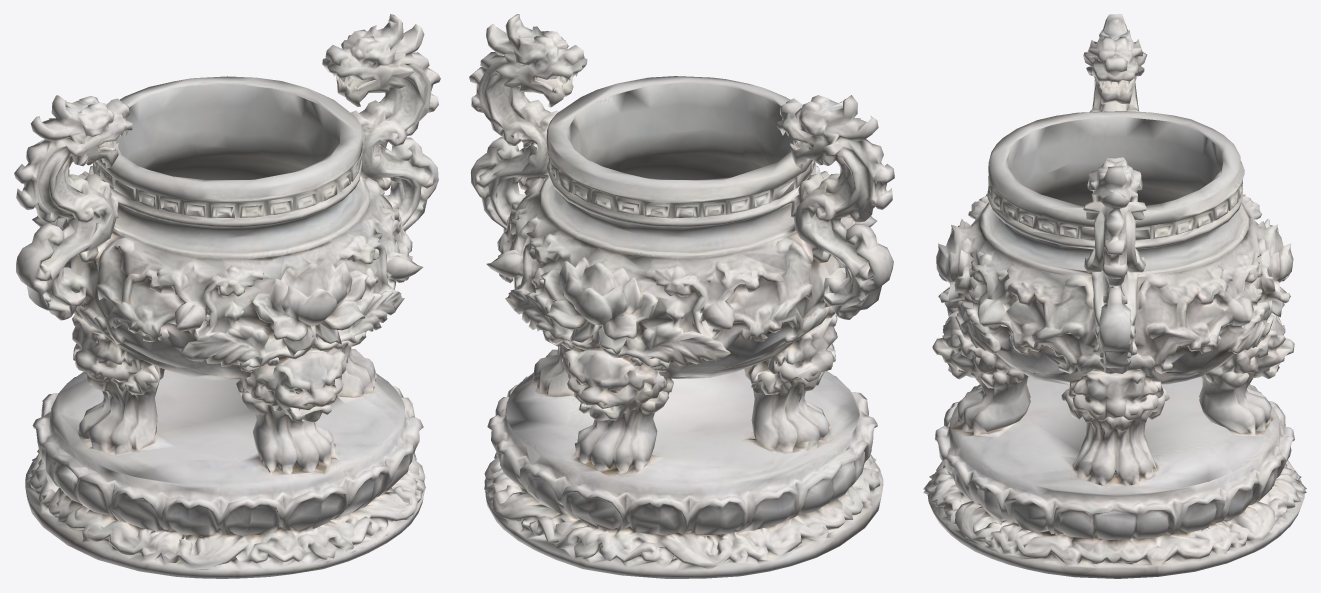
Rendered from low-welded.glb.
The picture shows the model from 3 angles, left to right: view 1: azimuth 30°, elevation 25°; view 2: azimuth 150°, elevation 25°; view 3: azimuth 270°, elevation 25°; orthographic projection. The views are drawn at different scales.
Parts seen in each view (by area): view 1: model; view 2: model; view 3: model.
Boxes of the visible parts, x1=… form: model: x1=14, y1=14, x2=440, y2=578; model: x1=469, y1=14, x2=894, y2=578; model: x1=923, y1=14, x2=1306, y2=578.
Size of the model in its own units: 1.59 by 1.6 by 1.35.
1 material, 1 textured.
